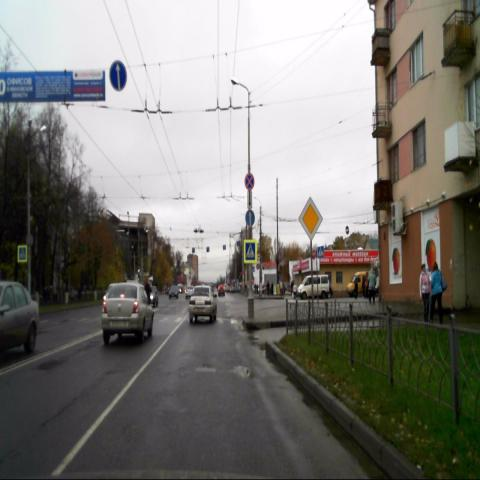2_1: (298, 196, 323, 240)
3_27: (244, 172, 254, 190)
4_1_1: (110, 60, 126, 91), (245, 209, 255, 227)
5_19_1: (244, 239, 256, 263), (17, 245, 26, 262)
